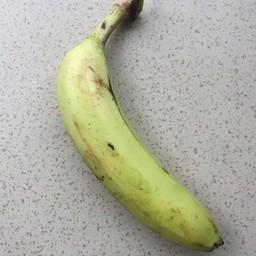Banana Ripe: (43, 21, 250, 256)
